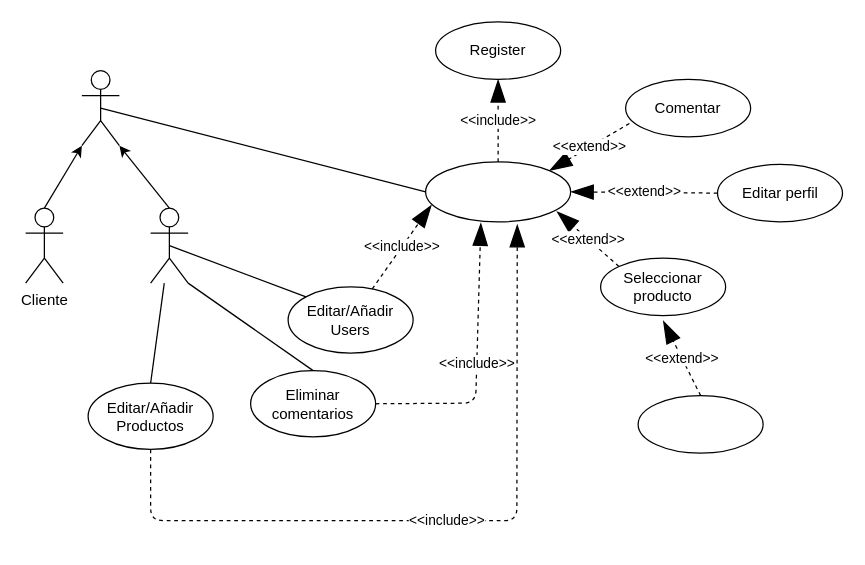
Image size: 865x565. Some labels were removed from this diagram. Each missing label, with the centre of its shape:
"Admin" belongs at point (168, 245).
"Comprar" belongs at point (700, 423).
"Iniciar sesión" belongs at point (497, 191).
"User" belongs at point (100, 107).
